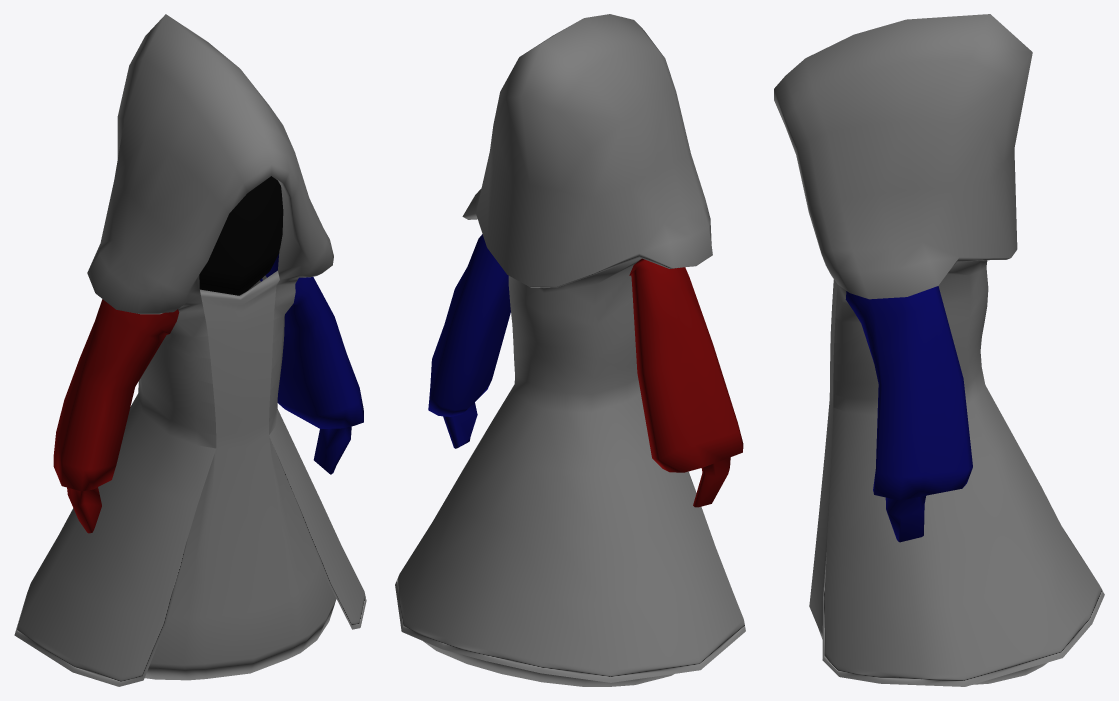
Rendered from LowPoly_Mage_Character.fbx.
The picture shows the model from 3 angles, left to right: view 1: azimuth 30°, elevation 25°; view 2: azimuth 150°, elevation 25°; view 3: azimuth 270°, elevation 25°; orthographic projection. The views are drawn at different scales.
Parts seen in each view (by area): view 1: LowPoly_Mage_Robe, LowPoly_Head; view 2: LowPoly_Mage_Robe; view 3: LowPoly_Mage_Robe.
Boxes of the visible parts, x1=… form: LowPoly_Mage_Robe: x1=14, y1=14, x2=366, y2=686; LowPoly_Head: x1=199, y1=176, x2=283, y2=295; LowPoly_Mage_Robe: x1=395, y1=14, x2=745, y2=686; LowPoly_Mage_Robe: x1=774, y1=14, x2=1104, y2=686.
Size of the model in its own units: 920 by 1705 by 828.
